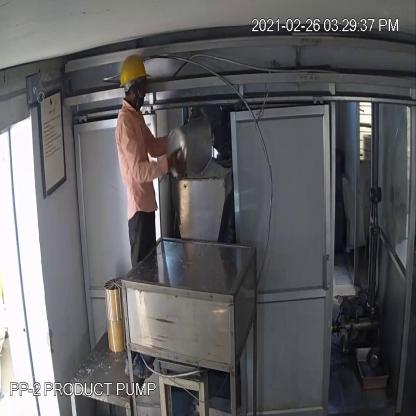helmet: (116, 50, 152, 89)
